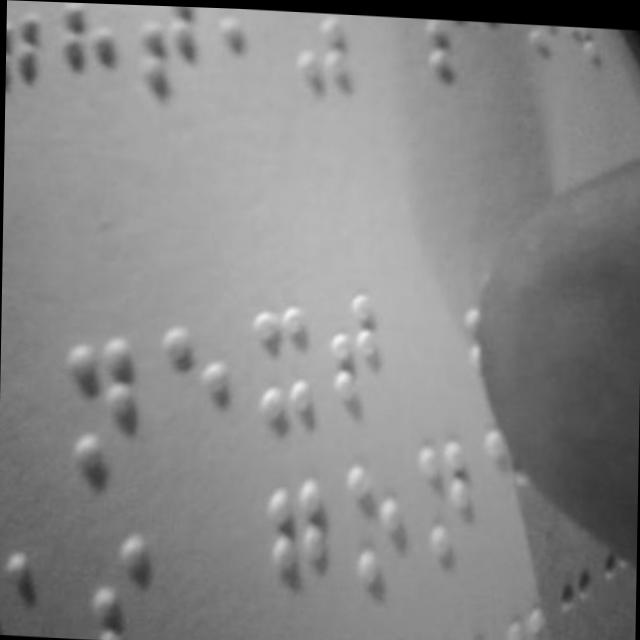braiile: (56, 322, 146, 483), (156, 309, 236, 460), (266, 468, 340, 623), (87, 506, 168, 640), (338, 453, 410, 598), (410, 423, 475, 574), (252, 289, 318, 425), (53, 2, 122, 132), (129, 4, 202, 123), (328, 280, 393, 406), (211, 6, 284, 100), (3, 11, 46, 139), (418, 14, 467, 84)
